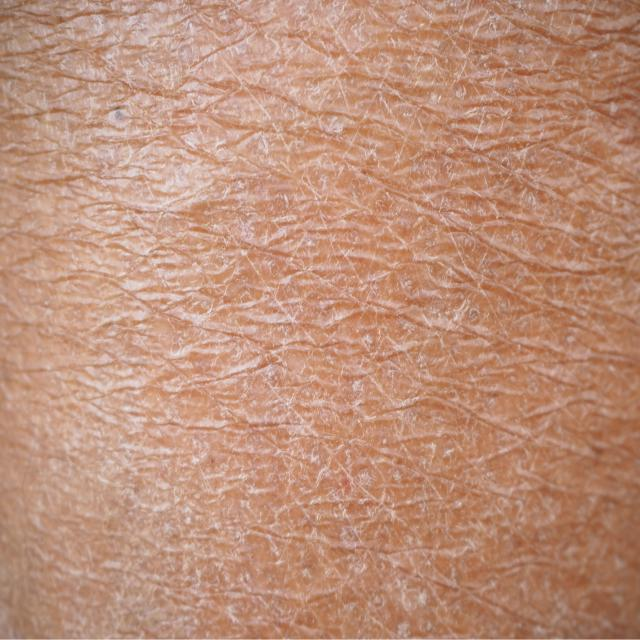Dry-Skin: (0, 4, 640, 639)
